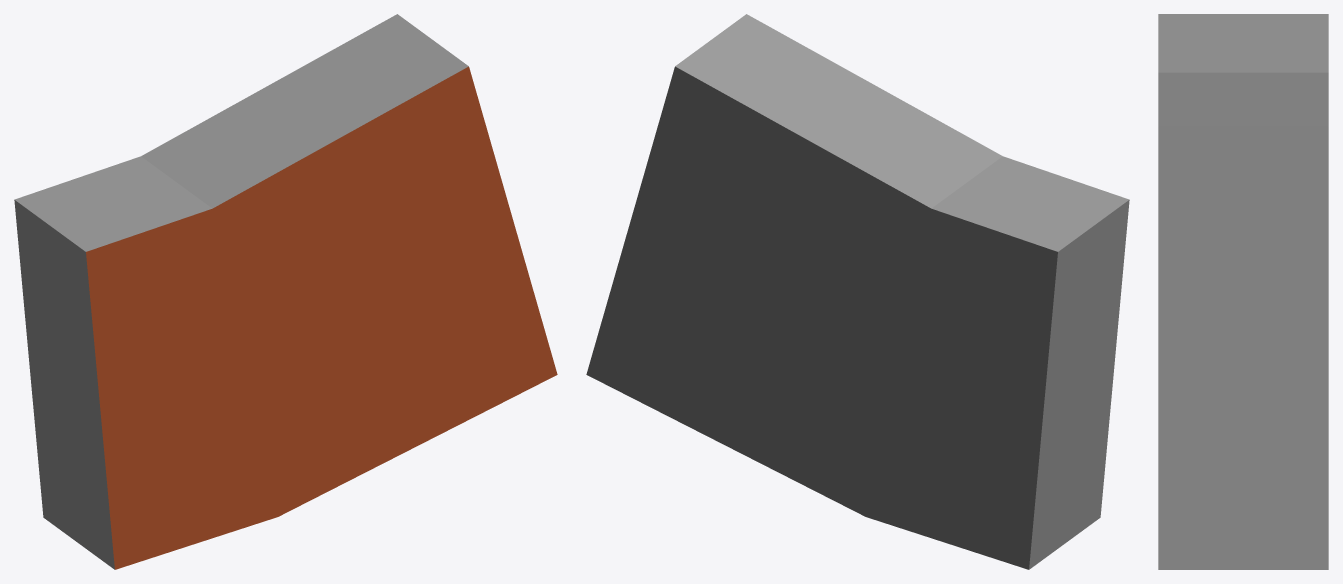
The model's file is construction_5678_assumed_A_Casa_h6m.obj.
3 views of the same model, side by side, from view 1: azimuth 30°, elevation 25°; view 2: azimuth 150°, elevation 25°; view 3: azimuth 270°, elevation 25° (orthographic). The views are drawn at different scales.
Visible parts, largest first — view 1: construction_5678_assumed_A_Casa; view 2: construction_5678_assumed_A_Casa; view 3: construction_5678_assumed_A_Casa.
Boxes of the visible parts, x1,y1,x2,y2 form: construction_5678_assumed_A_Casa: (14, 14, 557, 569); construction_5678_assumed_A_Casa: (586, 14, 1129, 569); construction_5678_assumed_A_Casa: (1158, 14, 1328, 569).
Size of the model in its own units: 22.83 by 19.3 by 6.
